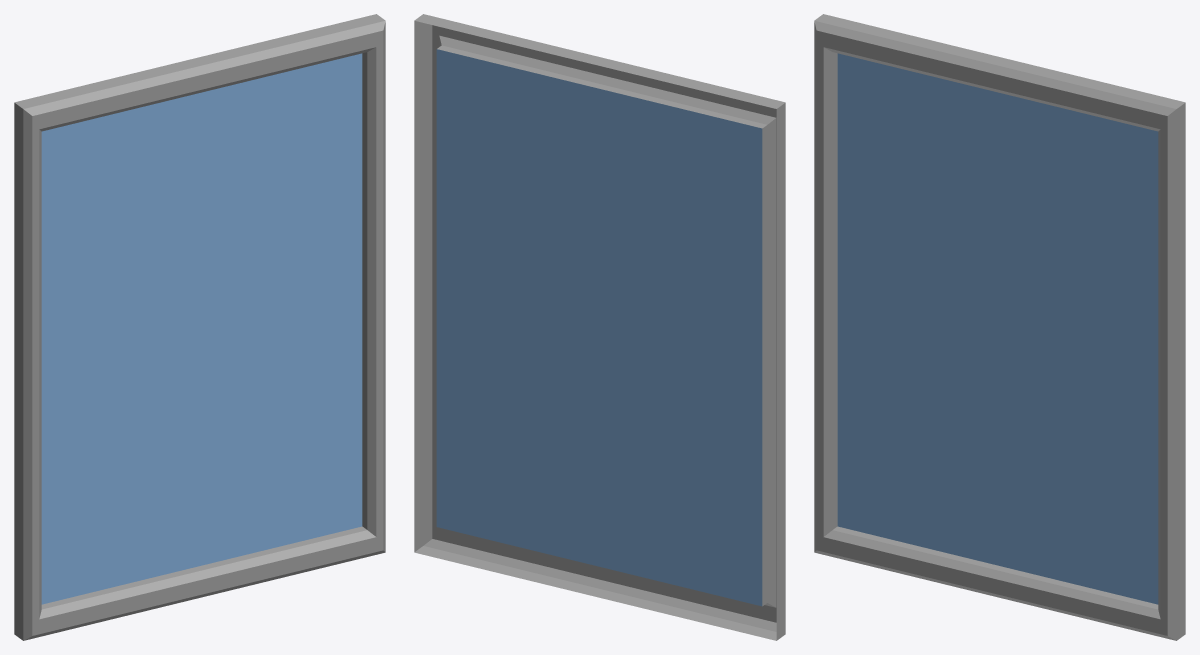
File: Ventana_03.fbx
3 views of the same model, side by side, from view 1: azimuth 30°, elevation 25°; view 2: azimuth 150°, elevation 25°; view 3: azimuth 330°, elevation 25° (orthographic).
Visible parts, largest first — view 1: polySurface127; view 2: polySurface127; view 3: polySurface127.
Part boxes in pixels (x1,y1,x2,y2): polySurface127: (14,14,385,640); polySurface127: (414,14,785,640); polySurface127: (814,14,1185,640).
Size of the model in its own units: 201 by 282 by 11.99.
